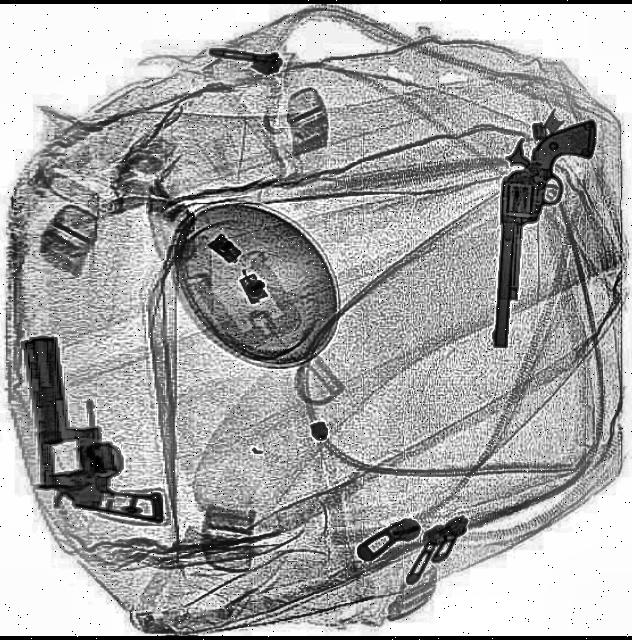Gun: (11, 316, 161, 542), (490, 115, 594, 353)
